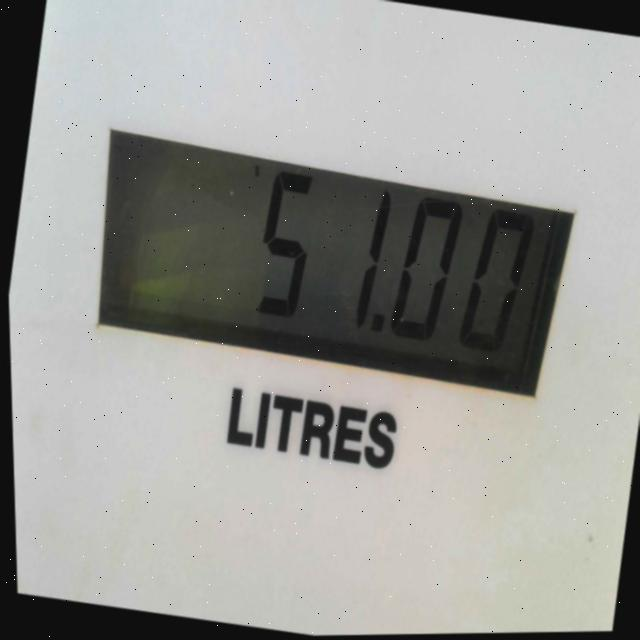.: (364, 305, 399, 363)
0: (376, 191, 470, 366), (453, 208, 537, 374)
1: (338, 176, 402, 346)
5: (231, 163, 323, 330)
